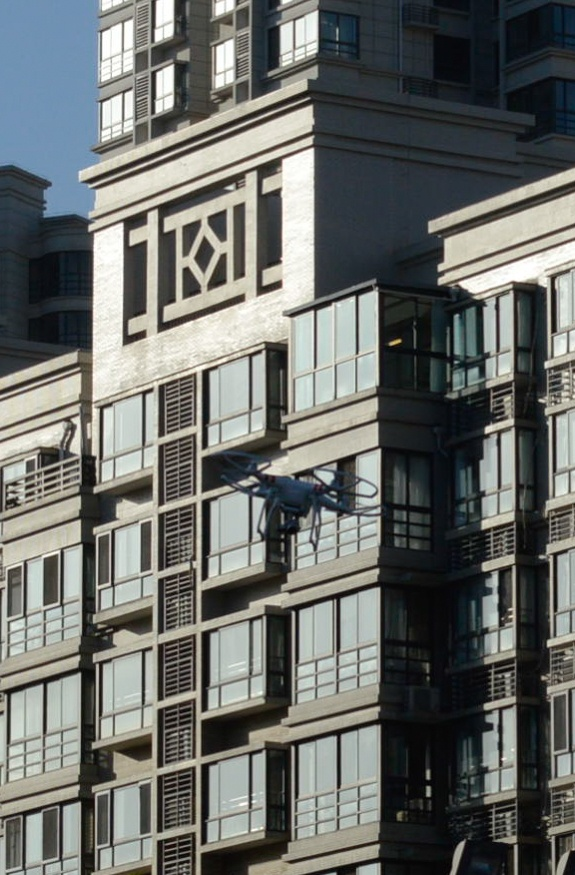DJI: (219, 449, 378, 550)
